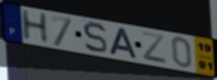0: (170, 36, 193, 69)
7: (51, 14, 73, 47)
A: (108, 26, 140, 61)
H: (19, 8, 50, 44)
S: (82, 21, 109, 55)
Z: (140, 30, 168, 66)
